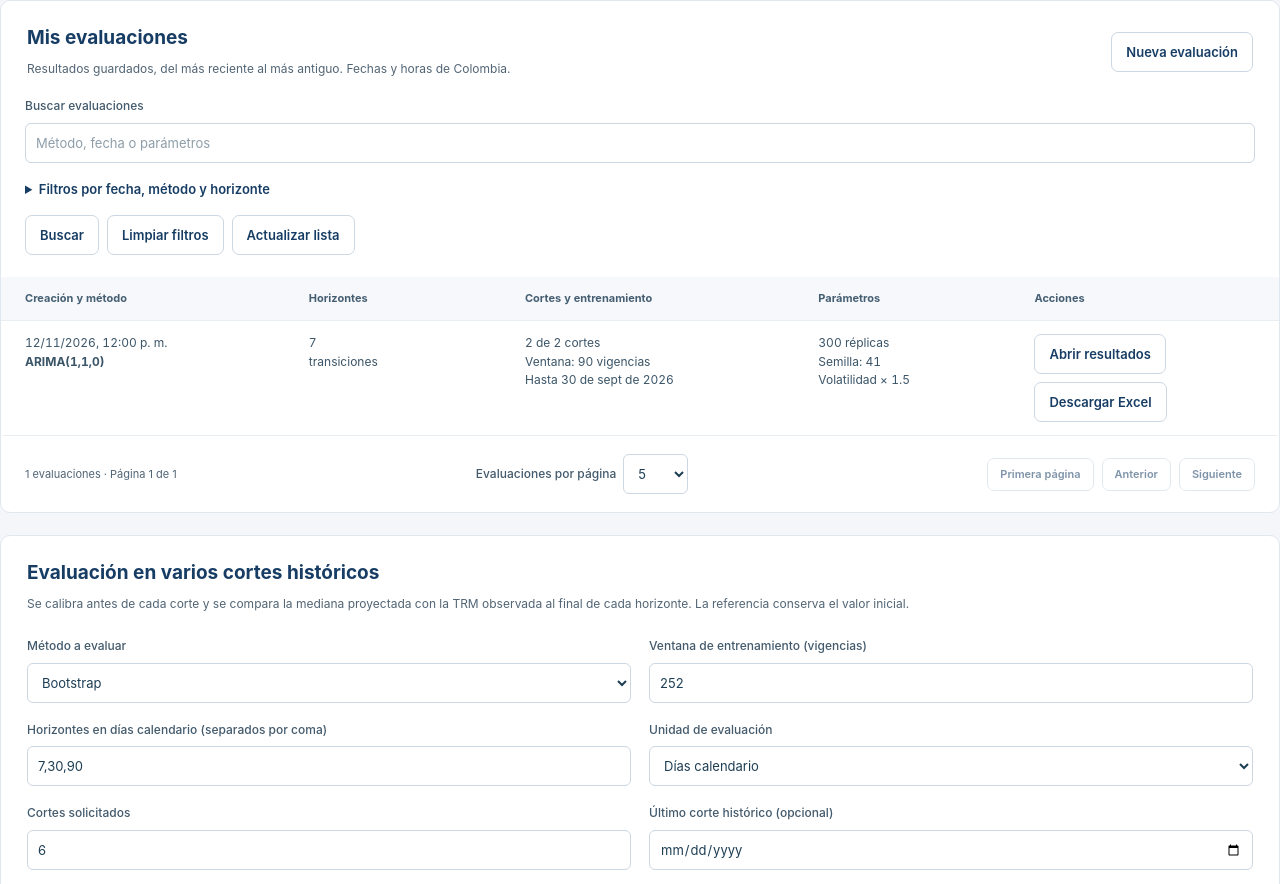
reutiliza la configuración histórica sin recalcular hasta solicitar una nueva evaluación
The image size is (1280, 884).
Later steps or results of the test are not shown.
Click the button "Abrir resultados" at x=1100, y=354, box [1034,334,1166,374]
(page scrolled)
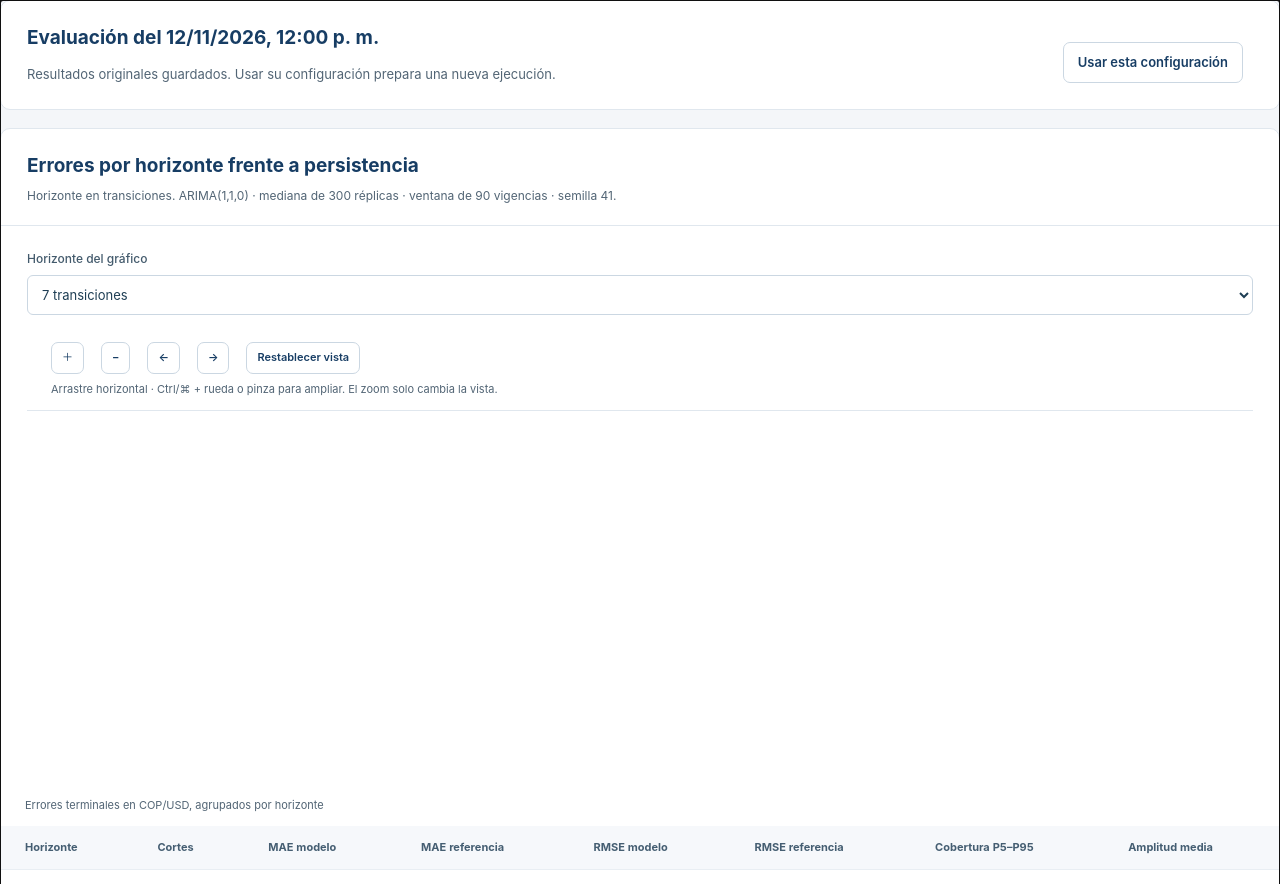
Result: the heading "Errores por horizonte frente a persistencia" is shown at [27,154,419,177]
Click the button "Usar esta configuración" at x=1153, y=62, box [1063,42,1243,82]
(page scrolled)
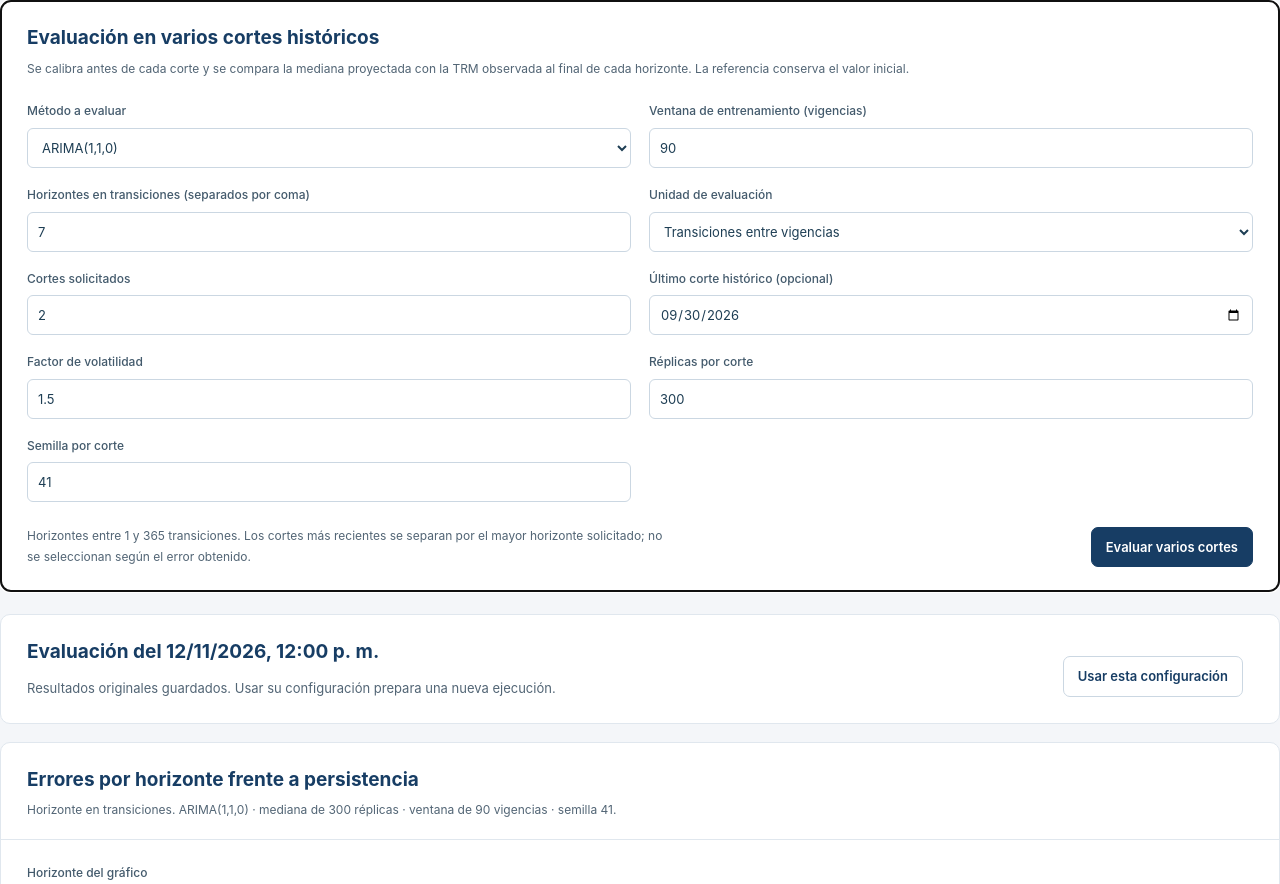
Result: the dropdown labelled "Método a evaluar" shows "ARIMA(1,1,0)" at [27,128,631,168]
Result: the dropdown labelled "Unidad de evaluación" shows "Transiciones entre vigencias" at [649,212,1253,252]
Result: the field labelled "Horizontes en transiciones (separados por coma)" holds "7" at [27,212,631,252]
